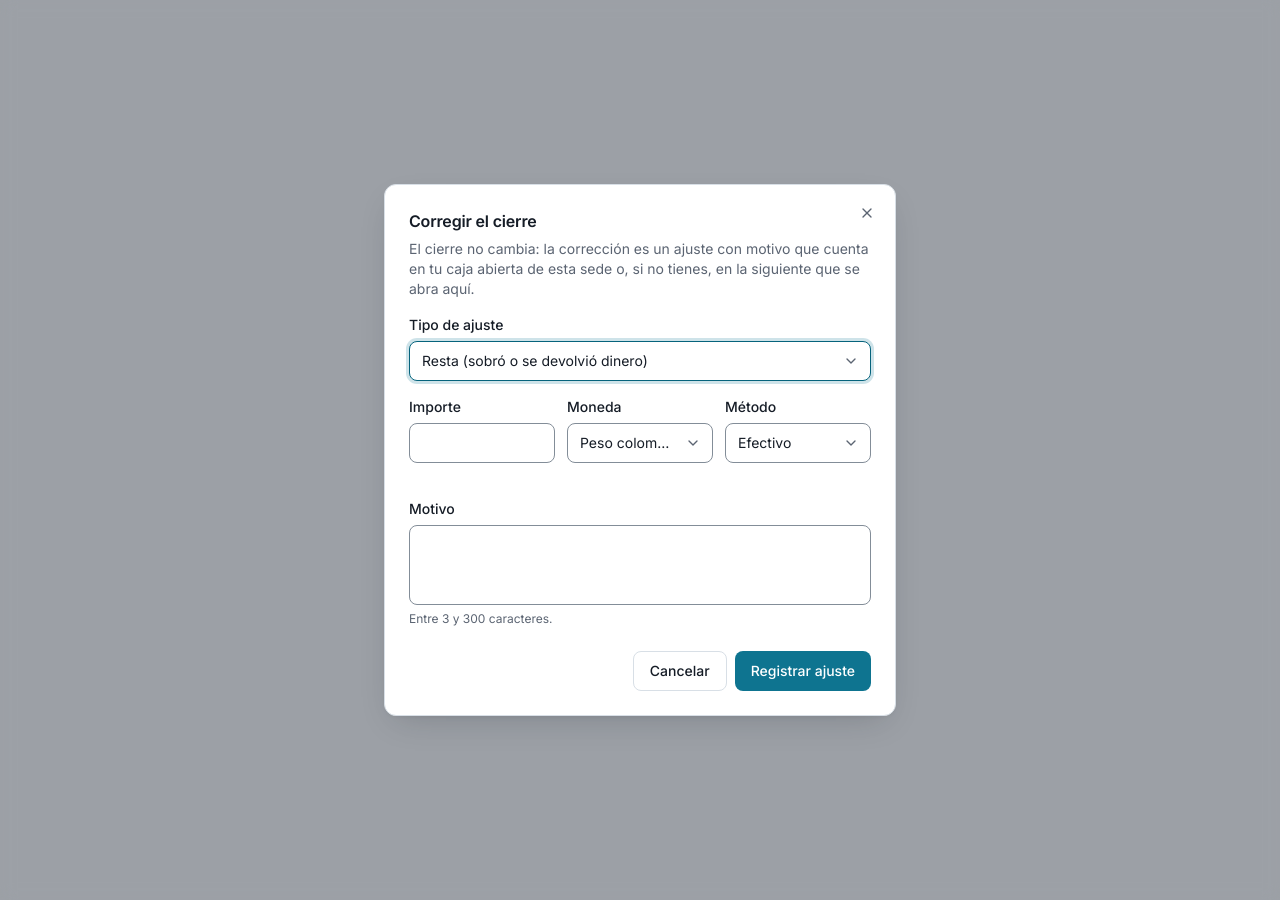
it: CashAdjustmentModal (DX-027, DX-252) › mientras envía, el botón y los campos quedan deshabilitados (sin doble envío)
Type "2000" into the field labelled "Importe".
click(482, 443); type("2000")  # box [409,423,555,463]
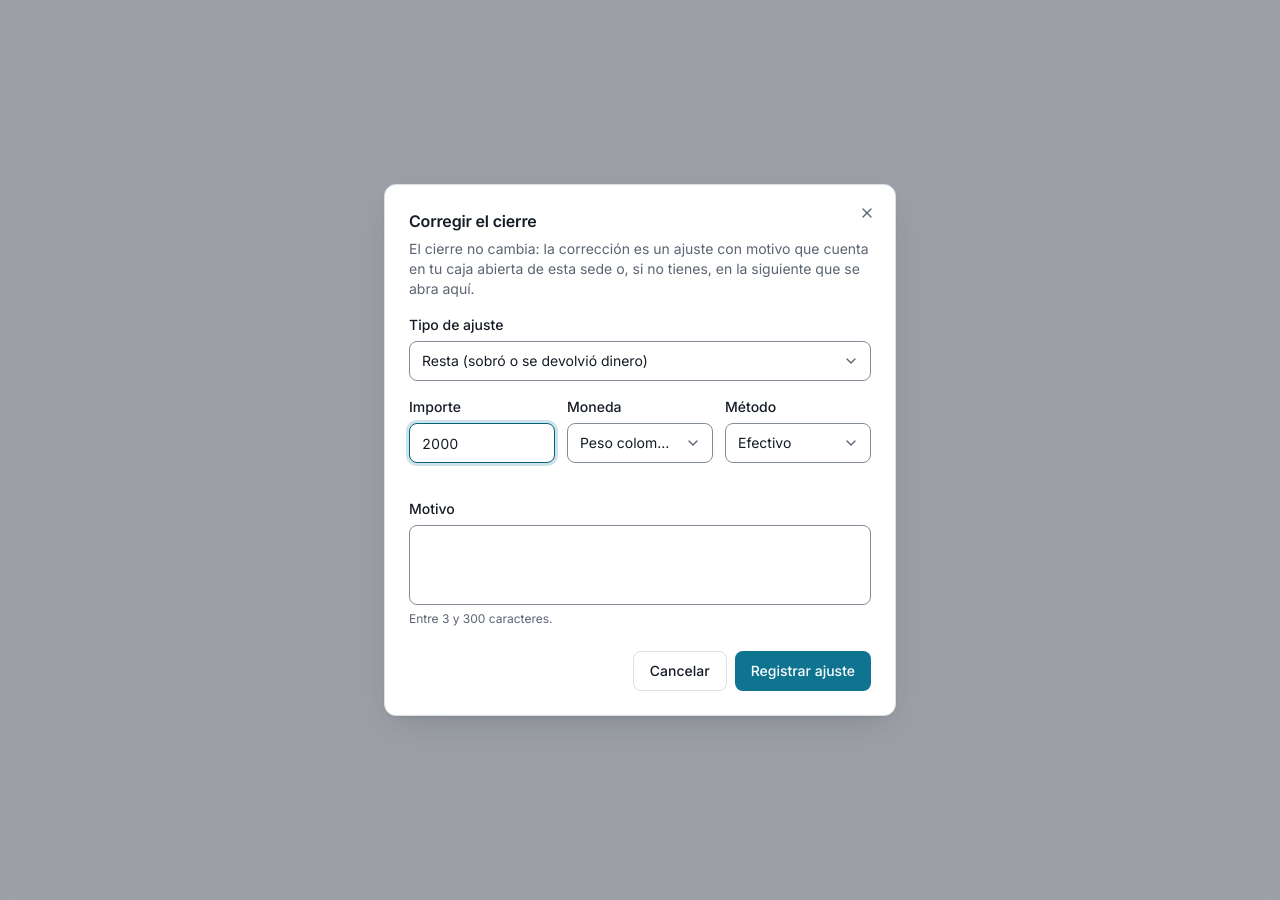
Type "Billete falso" into the text box labelled "Motivo".
click(640, 565); type("Billete falso")  # box [409,525,871,605]
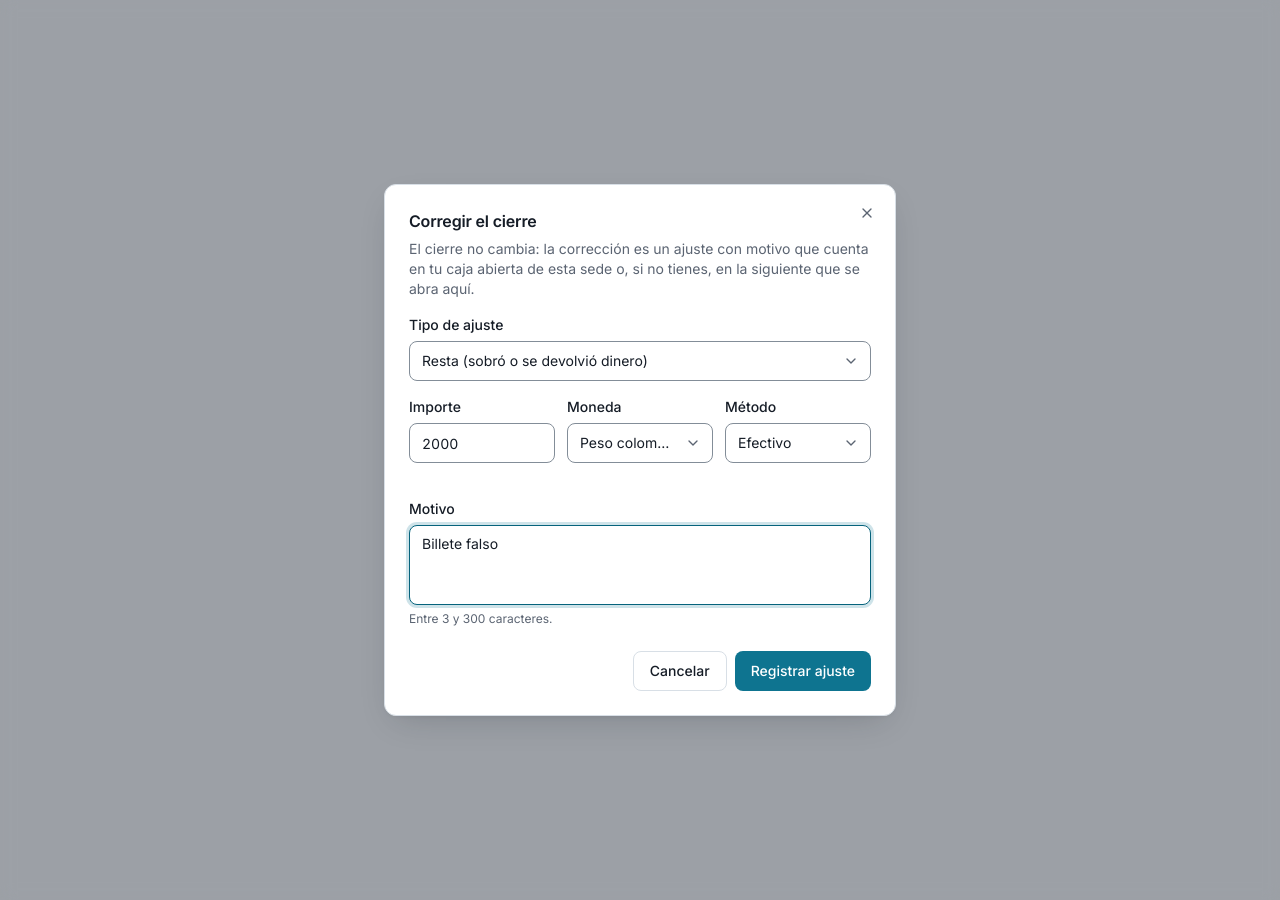
Click the button "Registrar ajuste".
click(803, 671)  # box [735,651,871,691]
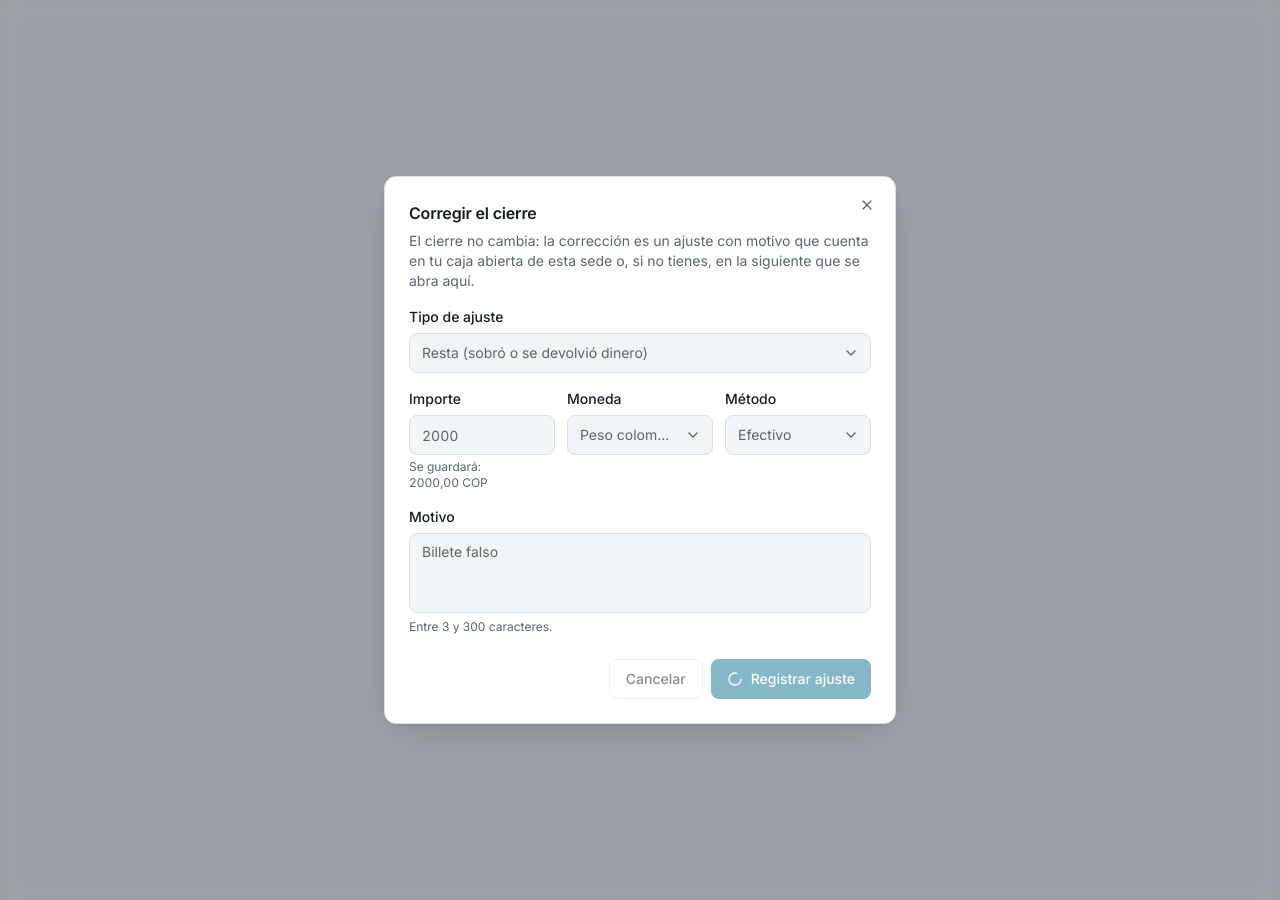
Result: the button "Registrar ajuste" is disabled
Result: the text box labelled "Motivo" is disabled at [409,533,871,613]
Result: the field labelled "Importe" is disabled at [409,415,555,455]
Click the button "Registrar ajuste".
click(791, 679)  # box [711,659,871,699]
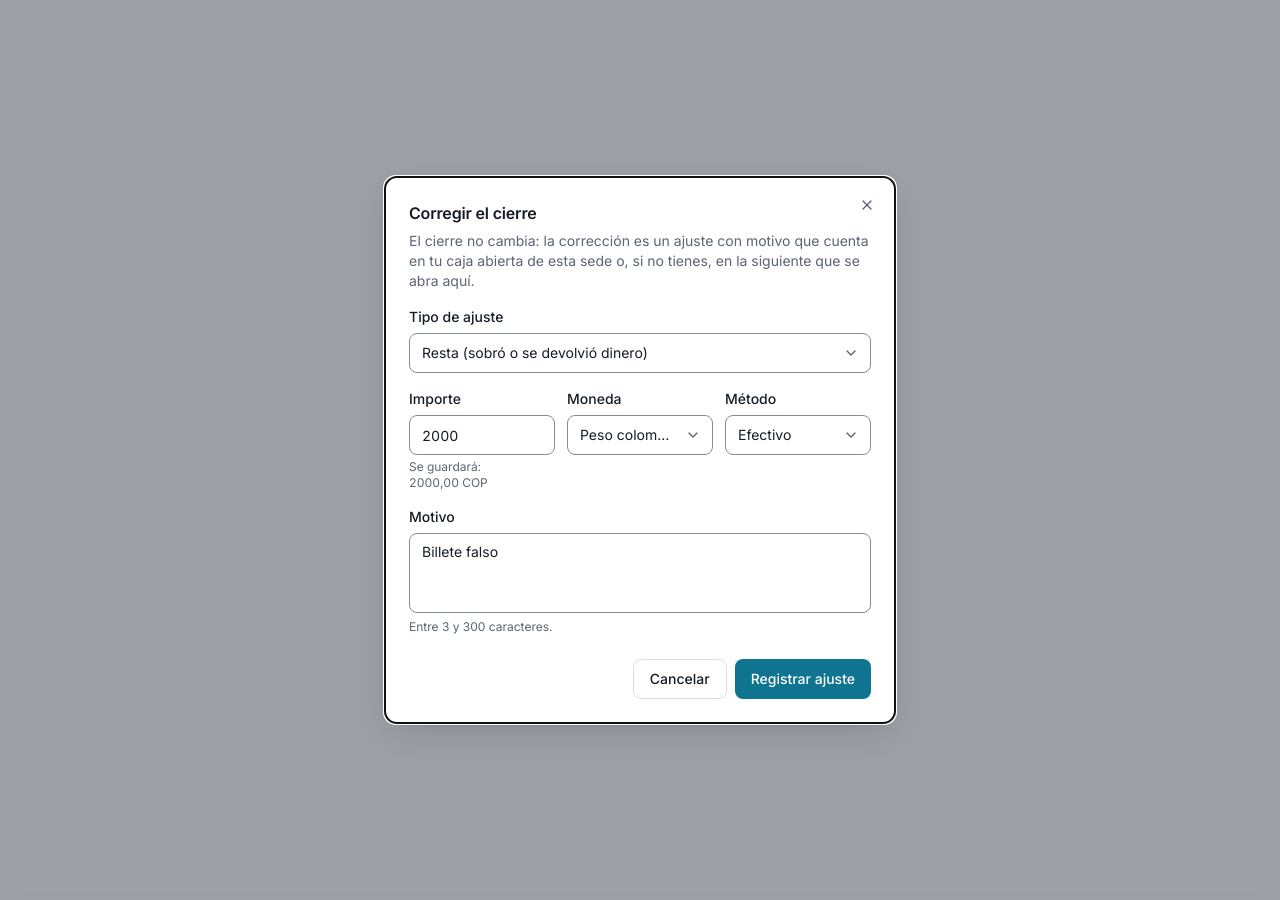
Result: the button "Registrar ajuste" is enabled at [735,659,871,699]
